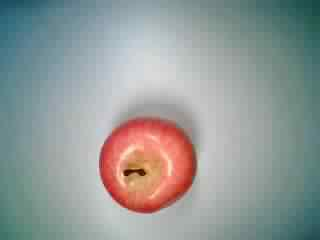apple: (95, 112, 201, 216)
